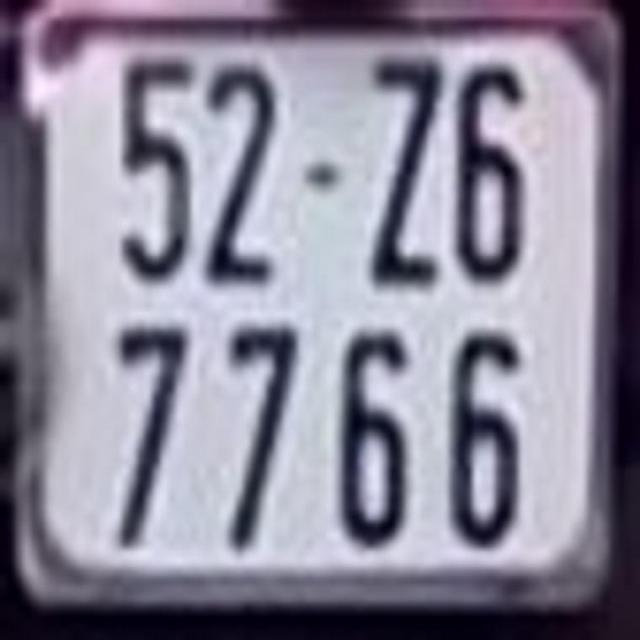2: (207, 58, 277, 281)
5: (118, 55, 192, 282)
6: (448, 327, 524, 556), (344, 323, 412, 552), (456, 57, 524, 281)
7: (108, 316, 192, 548), (232, 323, 302, 560)
Z: (369, 52, 443, 288)
